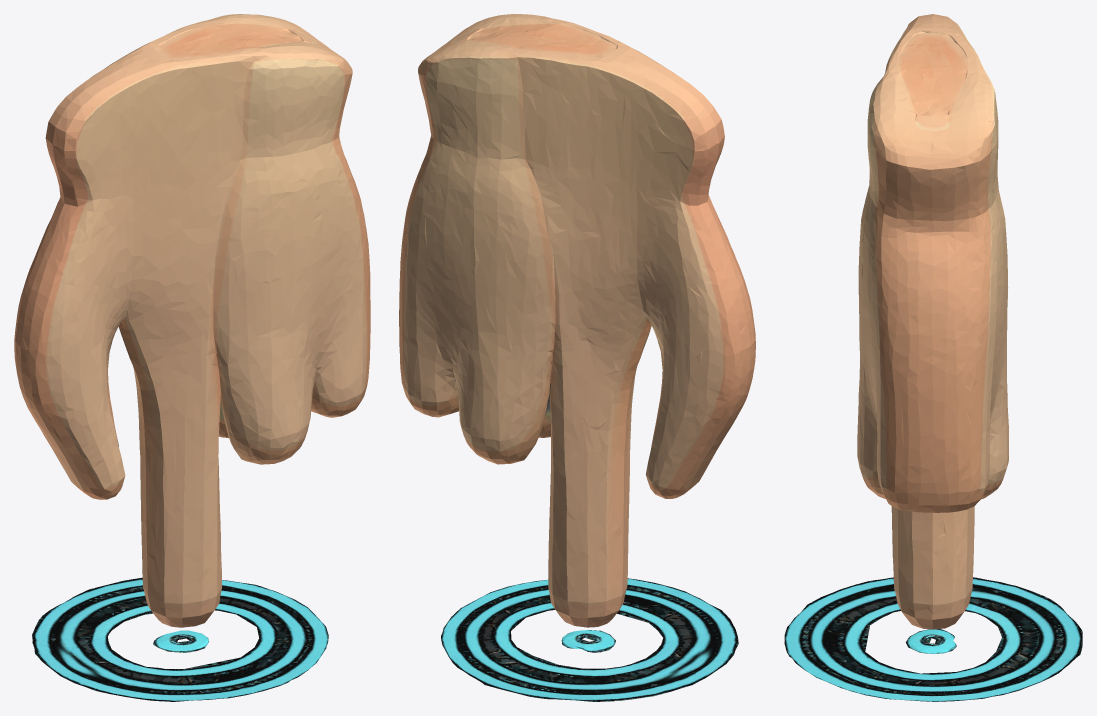
Rendered from ui_tutorial_finger.glb.
3 renders of one model, left to right at view 1: azimuth 30°, elevation 25°; view 2: azimuth 150°, elevation 25°; view 3: azimuth 270°, elevation 25°, orthographic.
Parts seen in each view (by area): view 1: world; view 2: world; view 3: world.
Boxes of the visible parts, <box> form: world: <box>14,14,370,701</box>; world: <box>399,14,755,701</box>; world: <box>784,14,1082,701</box>.
Bounding box in the file's own units: 0.5971 × 0.9994 × 0.4501.
1 material, 1 textured.
